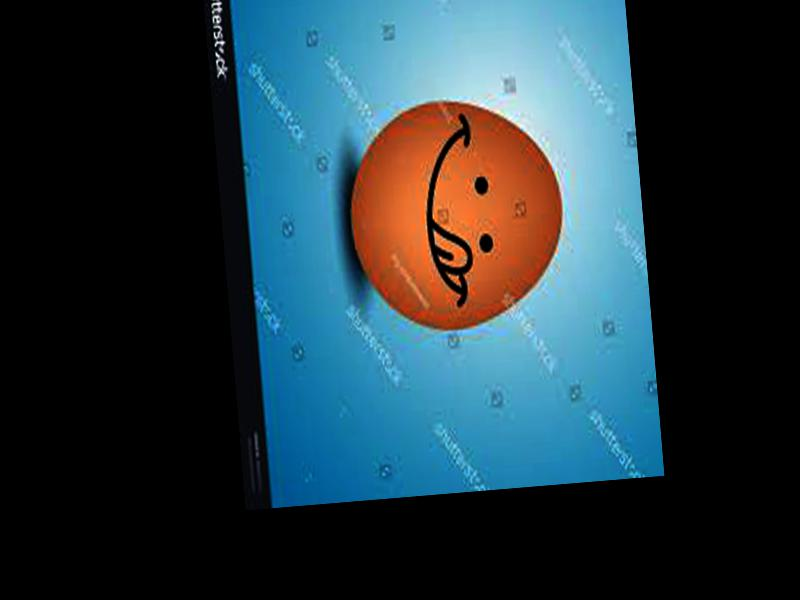Eggs: (341, 91, 571, 338)
